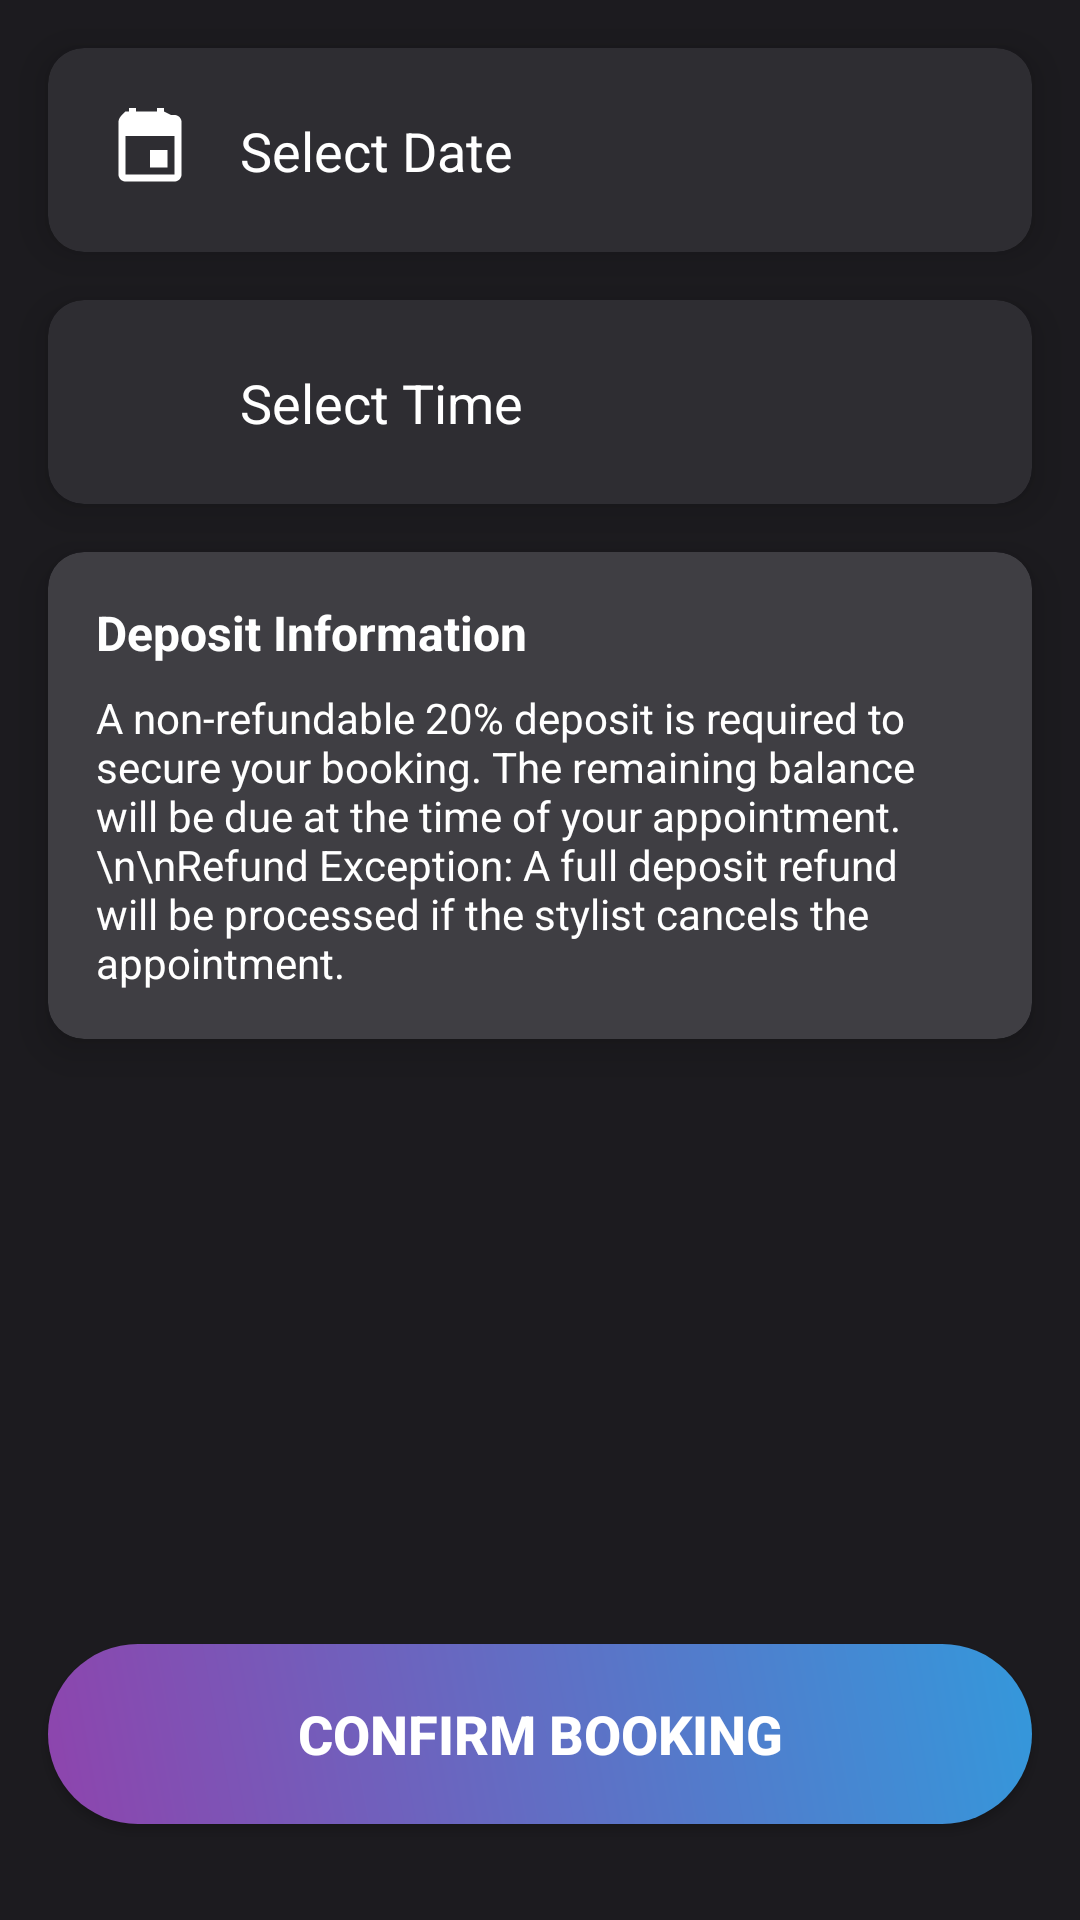

Screen size 1080×1920. Icon name, then its center in pixels as point (x, y):
calendar: point (150, 145)
